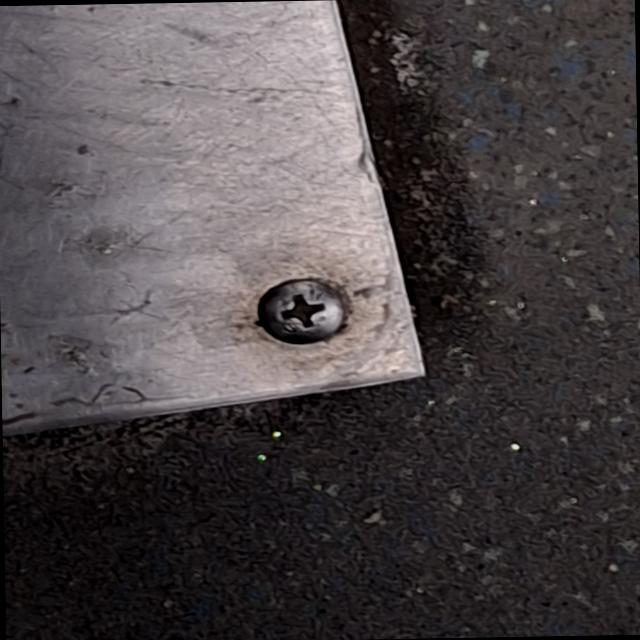Phillips: (246, 258, 363, 363)
